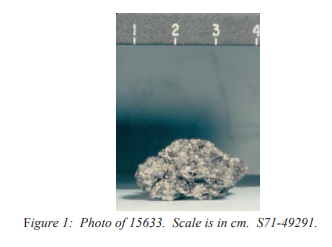Basalt: (128, 93, 261, 209)
